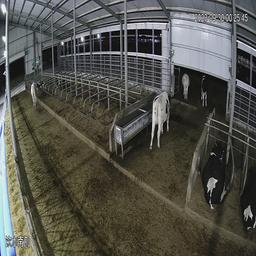cow: (201, 123, 230, 215), (149, 82, 172, 146), (239, 146, 255, 234), (196, 73, 209, 108), (180, 69, 191, 104), (27, 77, 39, 109)
